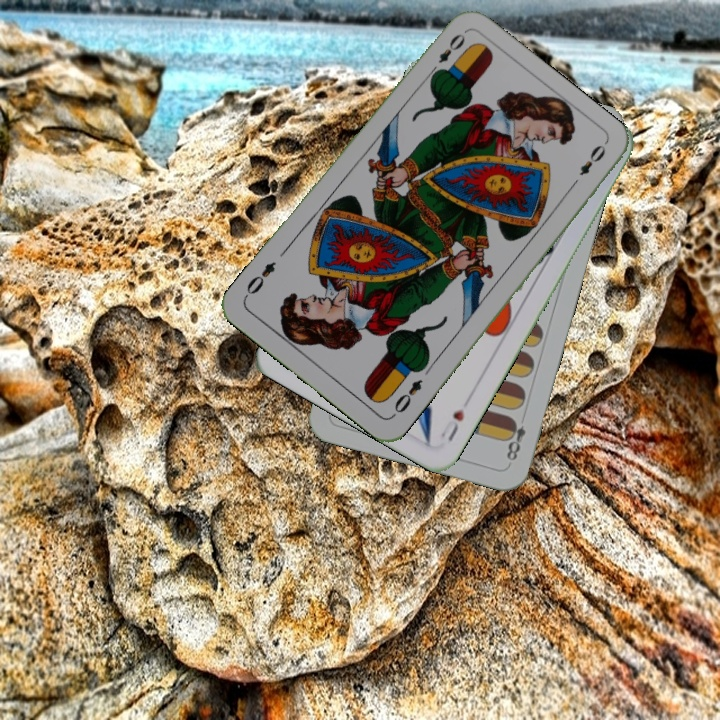E8: (502, 414, 529, 464)
EO: (425, 29, 468, 79), (388, 375, 425, 420)
HU: (436, 404, 467, 444)
